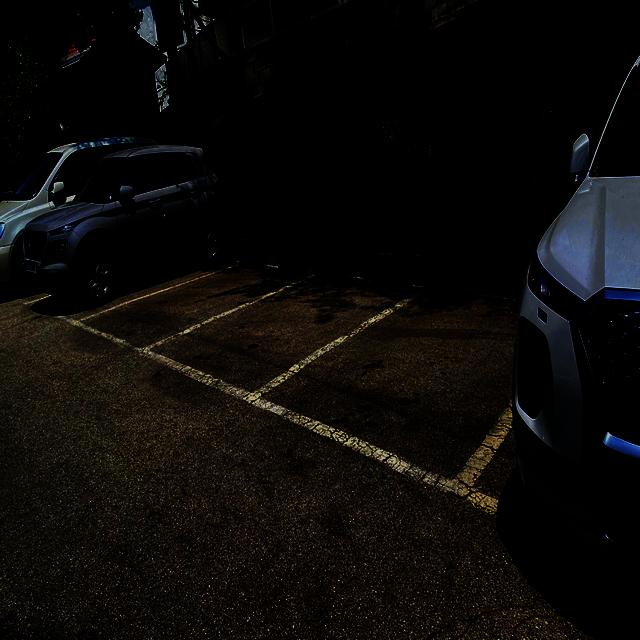empty: (234, 282, 521, 505), (124, 267, 433, 405), (66, 257, 330, 361)
